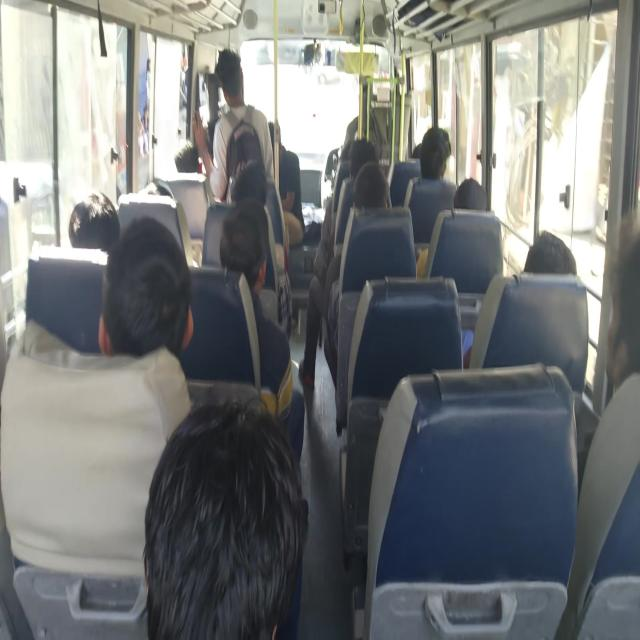person: (152, 422, 276, 624), (102, 238, 177, 344), (606, 256, 640, 421), (217, 190, 277, 273), (522, 218, 582, 296), (229, 156, 292, 226), (352, 165, 395, 242), (127, 179, 191, 218), (426, 127, 456, 202), (67, 188, 105, 246), (169, 126, 209, 180), (210, 56, 264, 94), (461, 167, 492, 226), (343, 139, 377, 178), (263, 113, 291, 153), (412, 134, 433, 170)
